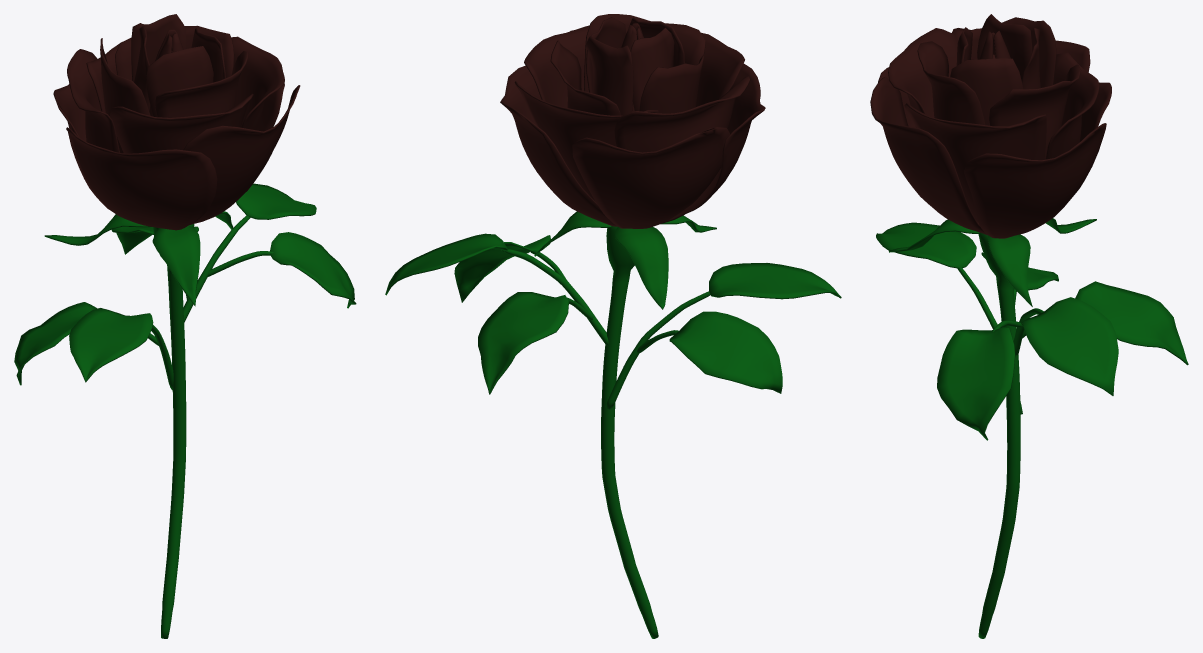
File: rose.glb
The picture shows the model from 3 angles, left to right: view 1: azimuth 30°, elevation 25°; view 2: azimuth 150°, elevation 25°; view 3: azimuth 270°, elevation 25°; orthographic projection. The views are drawn at different scales.
Visible parts, largest first — view 1: Retopo_Line417; view 2: Retopo_Line417; view 3: Retopo_Line417.
Boxes of the visible parts, x1=… form: Retopo_Line417: x1=14, y1=14, x2=356, y2=638; Retopo_Line417: x1=385, y1=14, x2=841, y2=638; Retopo_Line417: x1=870, y1=14, x2=1188, y2=638.
Bounding box in the file's own units: 0.585 × 0.9996 × 0.4681.
